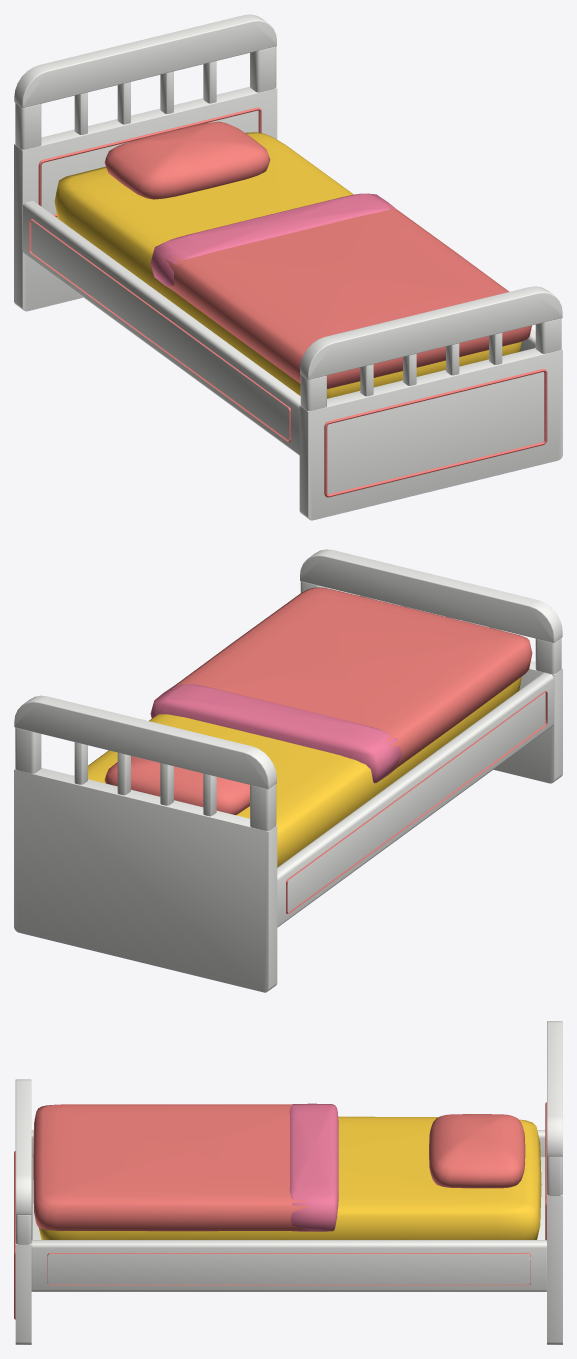
The model's file is cama_solteiro_friso_vermelho.glb.
3 renders of one model, top to bottom at view 1: azimuth 30°, elevation 25°; view 2: azimuth 150°, elevation 25°; view 3: azimuth 270°, elevation 25°, orthographic. The views are drawn at different scales.
Visible parts, largest first — view 1: cama_solteiro_friso_vermelho; view 2: cama_solteiro_friso_vermelho; view 3: cama_solteiro_friso_vermelho.
Part boxes in pixels (<box>): cama_solteiro_friso_vermelho: <box>14,14,562,520</box>; cama_solteiro_friso_vermelho: <box>14,549,562,992</box>; cama_solteiro_friso_vermelho: <box>14,1021,562,1344</box>.
Bounding box in the file's own units: 1.03 × 0.9 × 2.05.
1 material, 1 textured.
